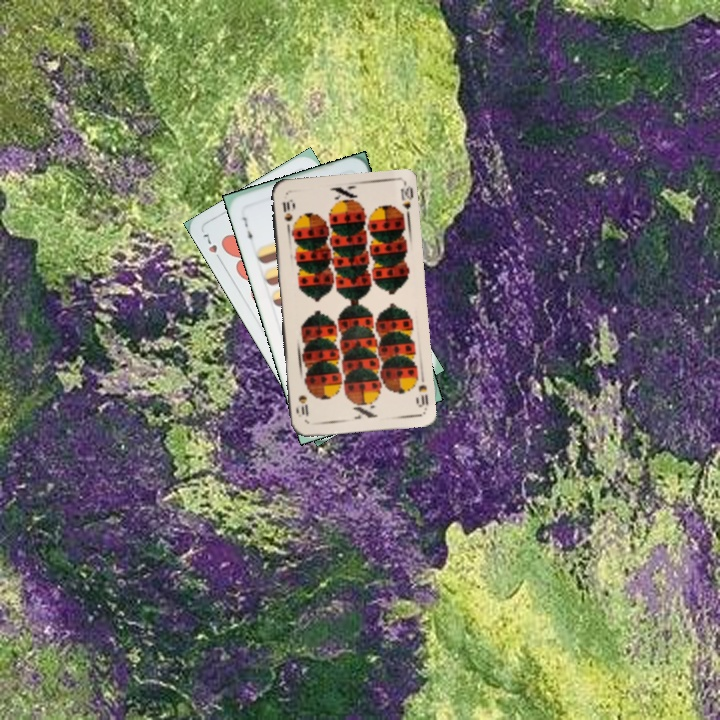E7: (238, 212, 256, 245)
H7: (199, 229, 225, 265)
S10: (279, 195, 295, 234), (411, 381, 431, 410)
